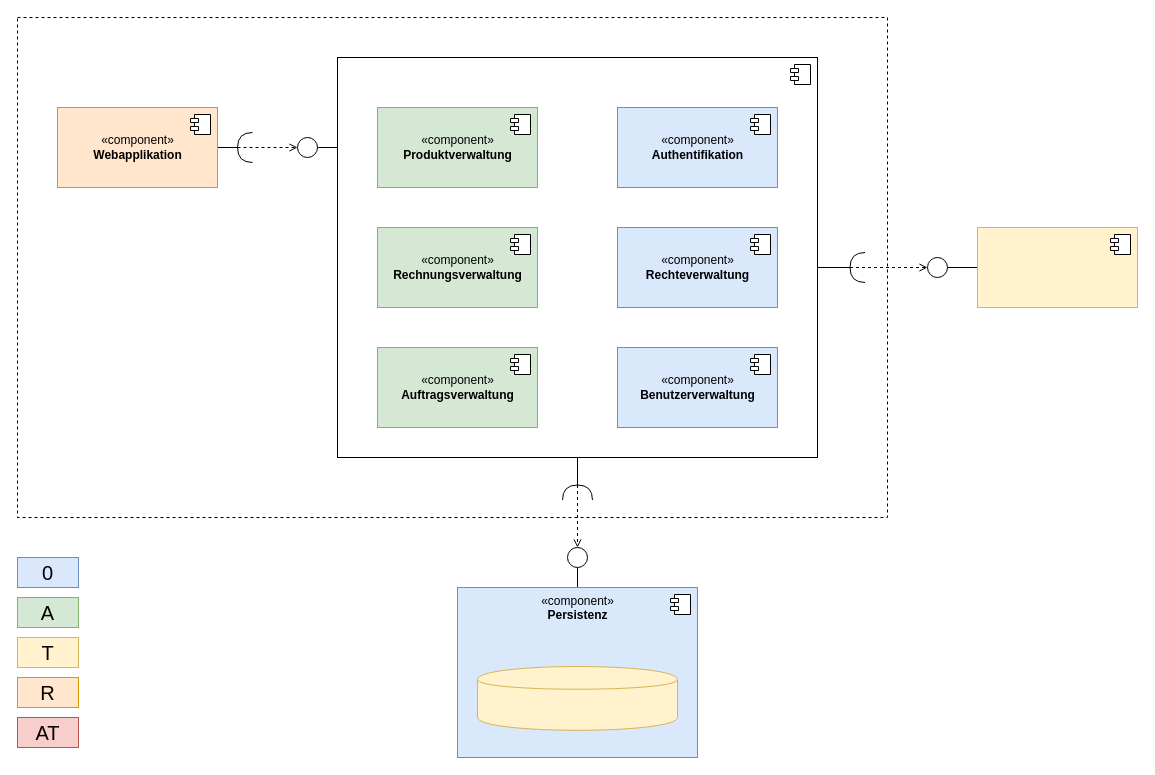
Image size: 1155x775. Some labels were removed from this diagram. Here are the shapes that lost their labels. From the top down, the box of each, then its label:
(16, 16, 888, 518): Kontextabgrenzung
(336, 56, 818, 458): «component» Vertragsmanagement
(976, 226, 1138, 308): «component» Verbrauchsstatistik
(476, 666, 678, 730): Database
